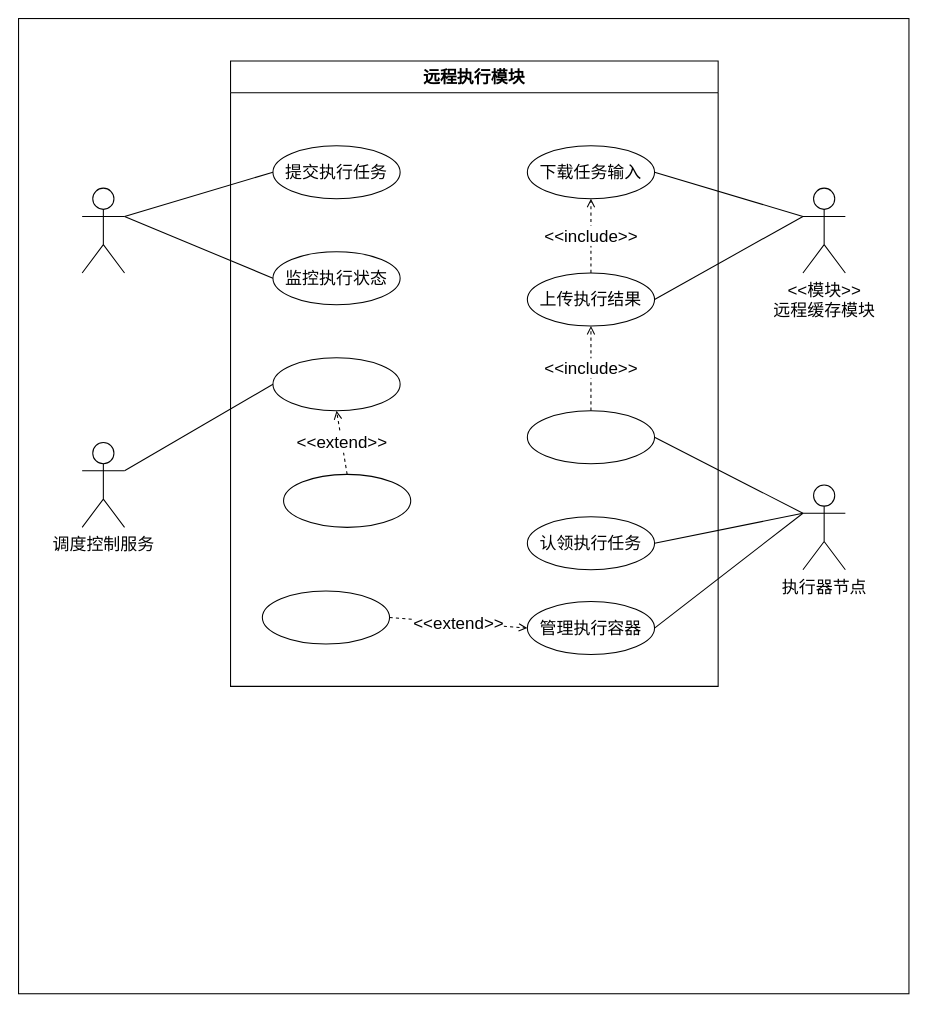
Image size: 927x1012. Some labels were removed from this diagram. Here are the shapes that lost their labels. From the top down, the centre of each, then its label:
the point at 103,230: 编译客户端
the point at 336,384: 调度执行任务
the point at 590,437: 执行构建命令
the point at 346,500: 合并重复任务
the point at 325,617: 复用执行环境
